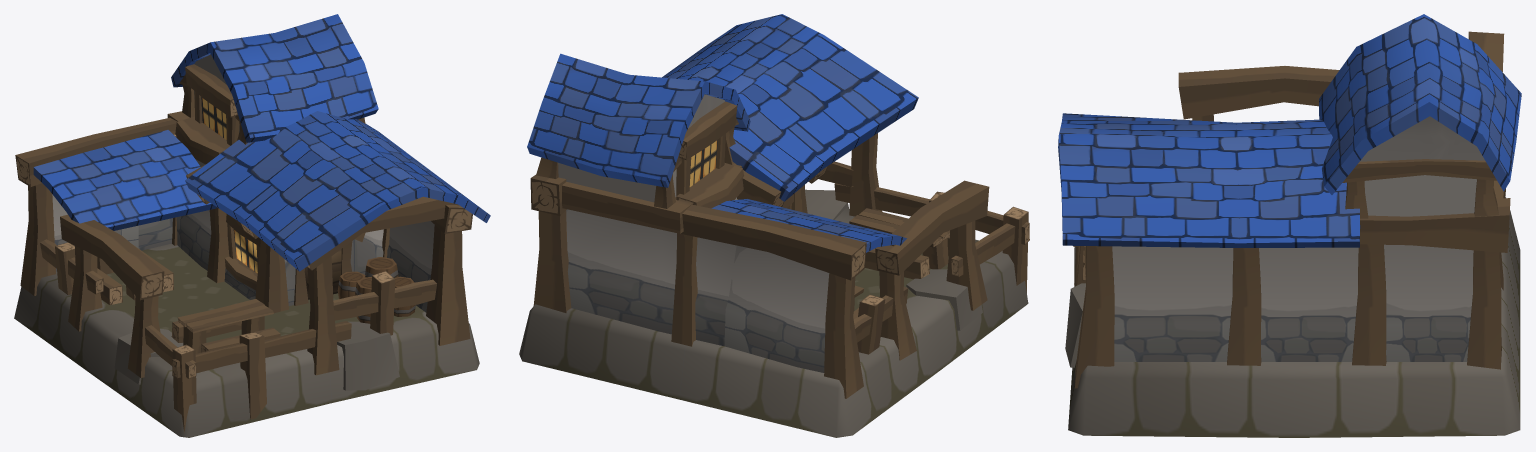
File: Tavern.fbx
3 renders of one model, left to right at view 1: azimuth 30°, elevation 25°; view 2: azimuth 150°, elevation 25°; view 3: azimuth 270°, elevation 25°, orthographic. The views are drawn at different scales.
Visible parts, largest first — view 1: Stables, Форточка, ВходнаяДверь; view 2: Stables; view 3: Stables.
Boxes of the visible parts, x1,y1,x2,y2 form: Stables: (14,14,490,437); Форточка: (233,229,257,273); ВходнаяДверь: (304,249,341,299); Stables: (519,14,1029,437); Stables: (1058,14,1521,437).
Size of the model in its own units: 671 by 537 by 675.
2 materials, 2 textured.
